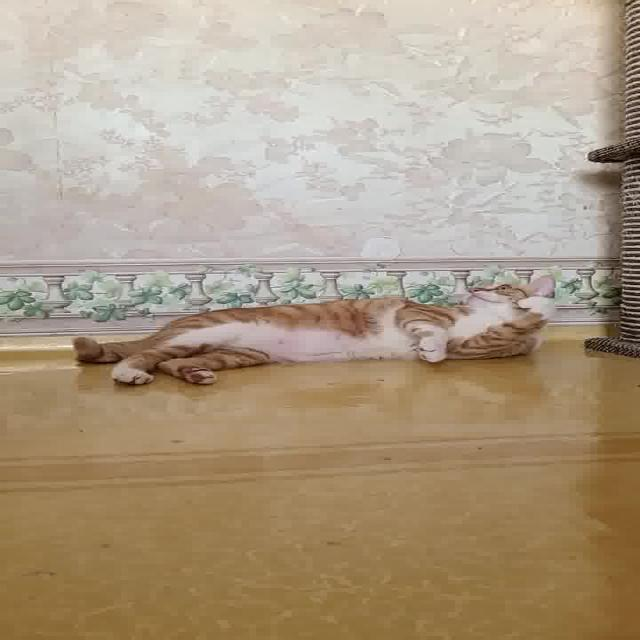cat: (33, 269, 585, 402)
